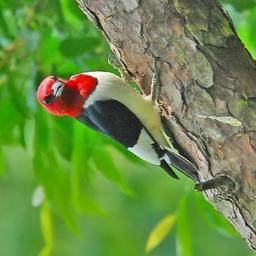Woodpecker: (25, 42, 216, 189)
